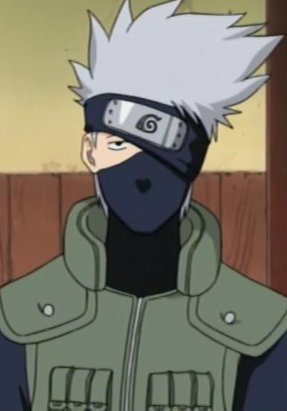kakashi: (80, 91, 214, 238)
